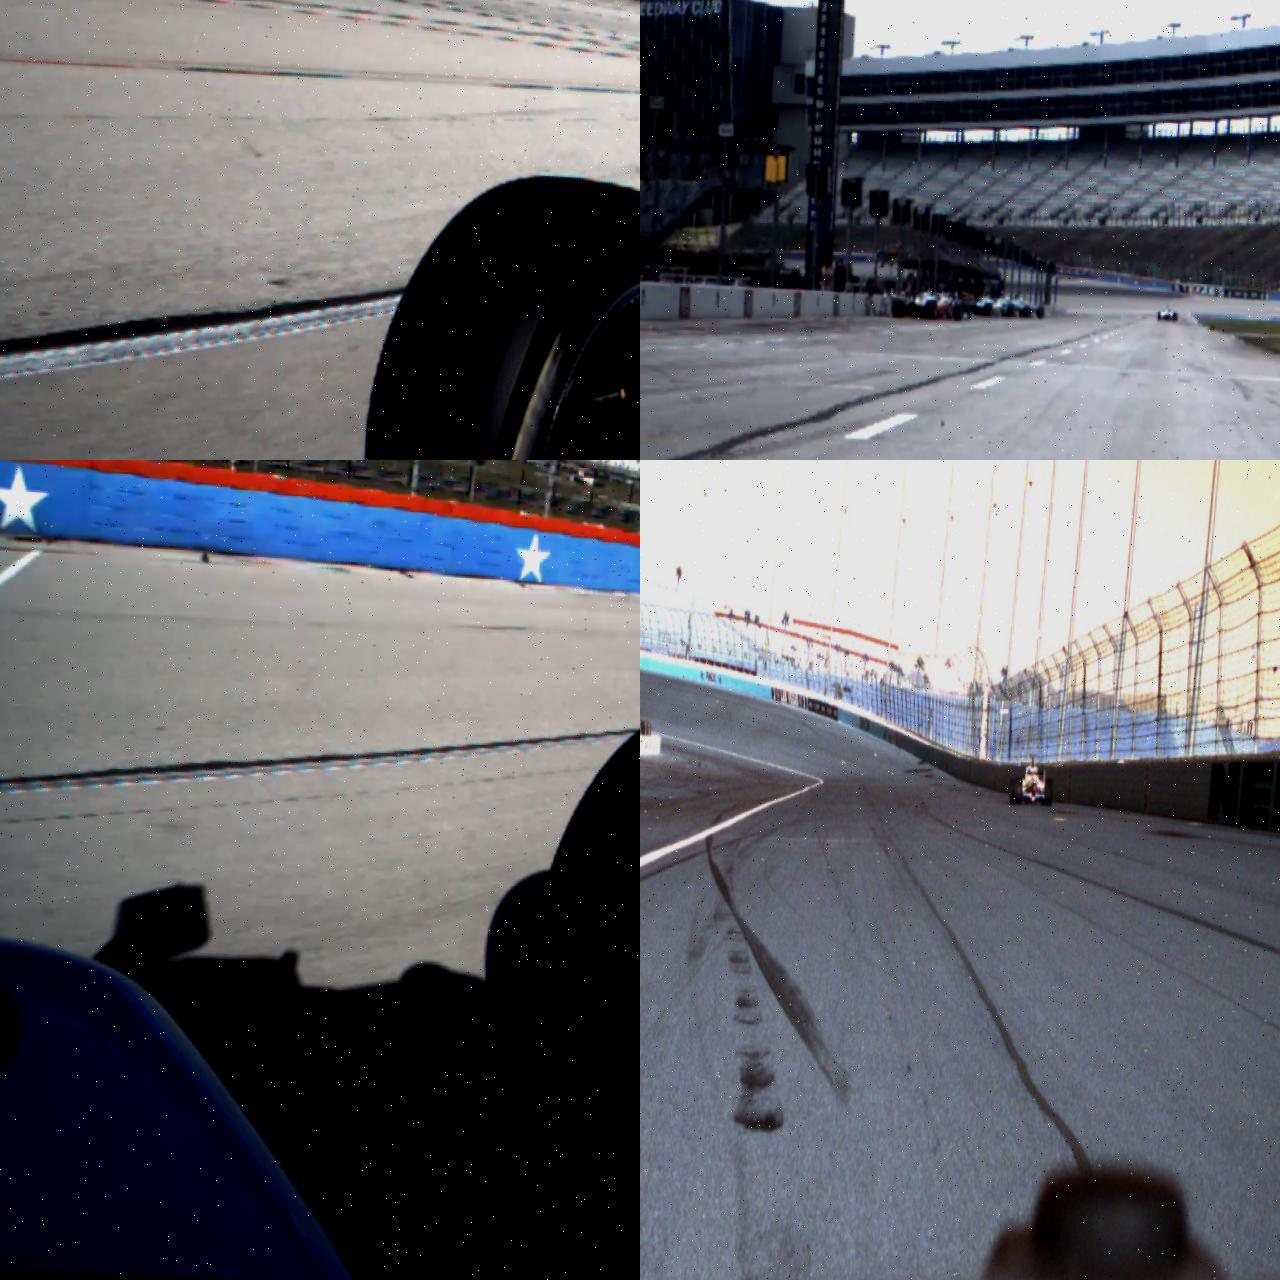AV: (891, 282, 971, 322), (1009, 753, 1054, 806), (1157, 304, 1178, 322)
Wheel: (351, 164, 640, 460), (528, 698, 640, 1198), (1044, 778, 1054, 806), (892, 298, 905, 318), (924, 299, 936, 319), (1013, 778, 1022, 804), (952, 304, 962, 321), (1009, 778, 1015, 803), (982, 302, 992, 316), (1006, 303, 1014, 317), (1023, 305, 1031, 318), (1036, 306, 1044, 318), (1156, 311, 1160, 321), (1172, 312, 1176, 321)
